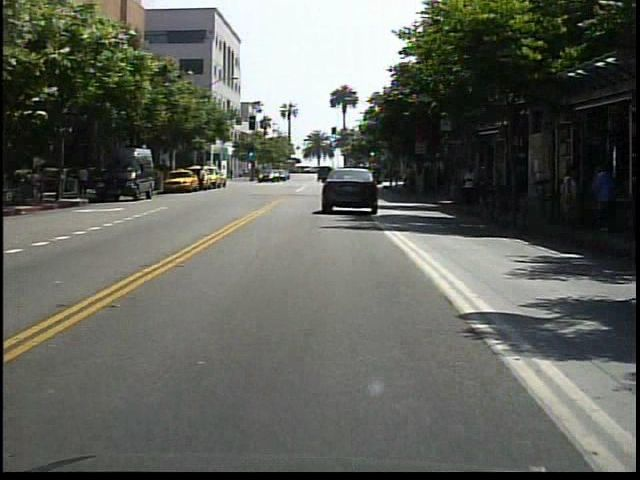person: (460, 164, 484, 214)
